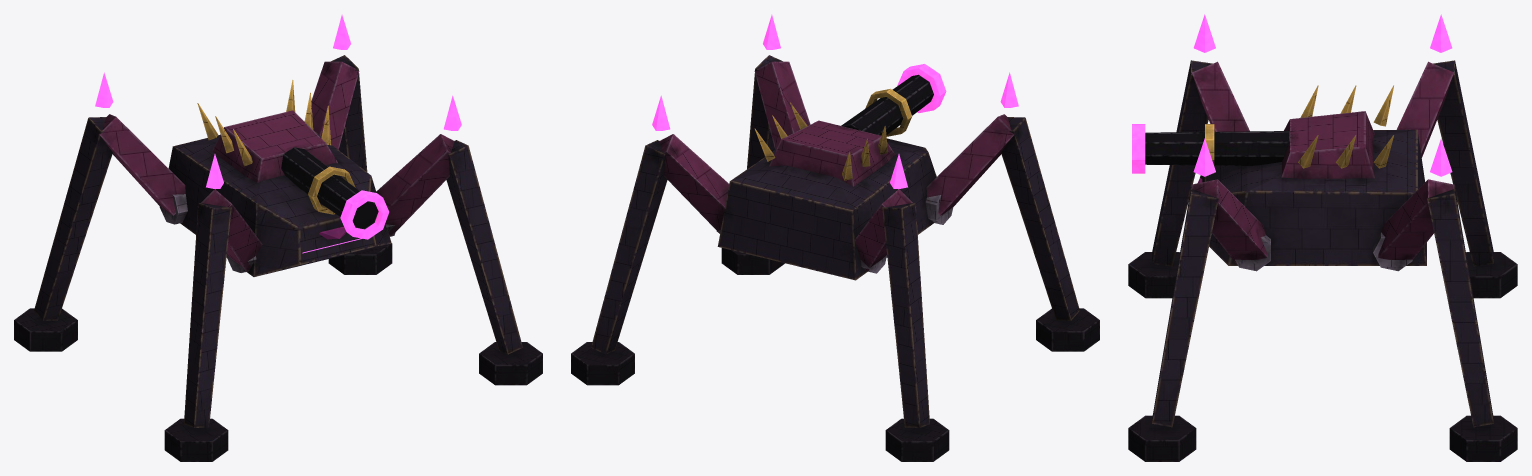
The model's file is e_tyrant.glb.
3 views of the same model, side by side, from view 1: azimuth 30°, elevation 25°; view 2: azimuth 150°, elevation 25°; view 3: azimuth 270°, elevation 25° (orthographic). The views are drawn at different scales.
Parts seen in each view (by area): view 1: e_tyrant; view 2: e_tyrant; view 3: e_tyrant.
Boxes of the visible parts, <box> form: e_tyrant: <box>14,14,542,461</box>; e_tyrant: <box>571,14,1099,461</box>; e_tyrant: <box>1128,14,1517,461</box>.
Bounding box in the file's own units: 4.72 × 3.41 × 4.12.
Materials: 1 (1 with a texture image).
